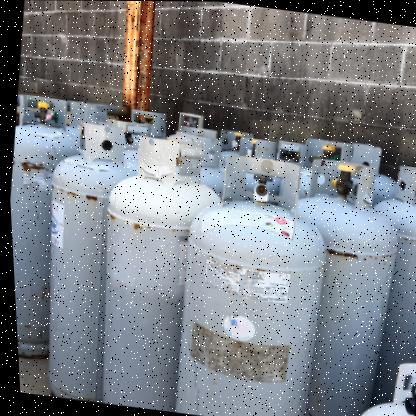gas-tank: (157, 140, 350, 415), (77, 123, 250, 415), (261, 138, 407, 415), (21, 117, 160, 405), (3, 84, 91, 370), (348, 146, 415, 415), (331, 336, 415, 415)
